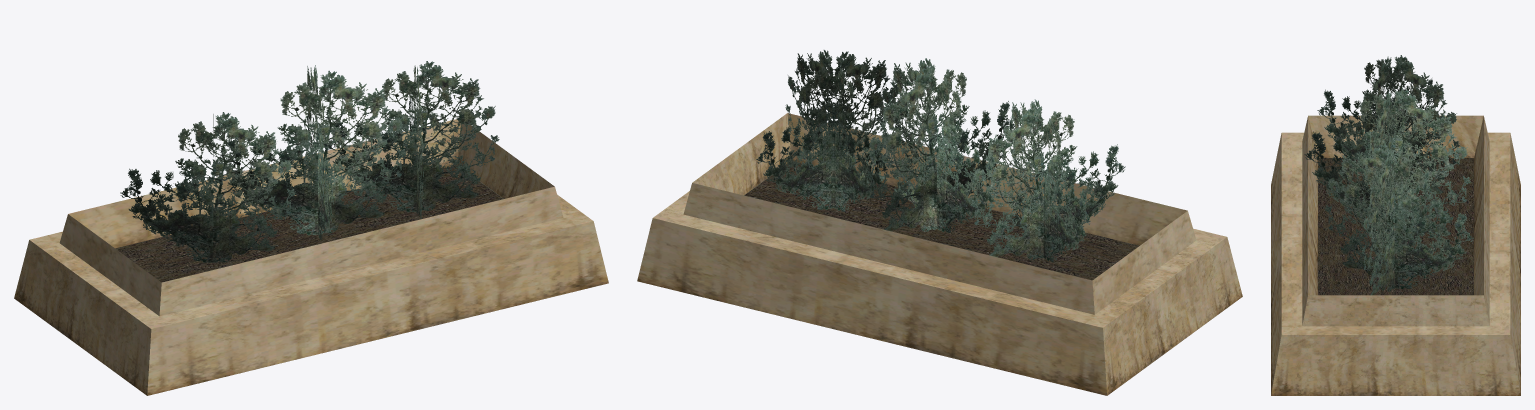
File: thm_tato_orchard_s02_l1.fbx
3 renders of one model, left to right at view 1: azimuth 30°, elevation 25°; view 2: azimuth 150°, elevation 25°; view 3: azimuth 270°, elevation 25°, orthographic. The views are drawn at different scales.
Visible parts, largest first — view 1: mesh_node; view 2: mesh_node; view 3: mesh_node.
Boxes of the visible parts, x1,y1,x2,y2 form: mesh_node: (14, 61, 608, 395); mesh_node: (637, 50, 1242, 395); mesh_node: (1271, 55, 1520, 395).
Bounding box in the file's own units: 8 × 3.71 × 4.
Materials: 1 (1 with a texture image).
